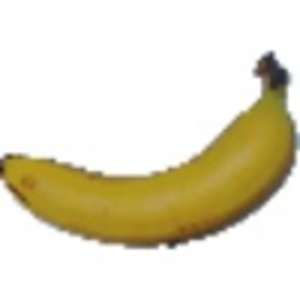banana: (3, 59, 299, 252)
